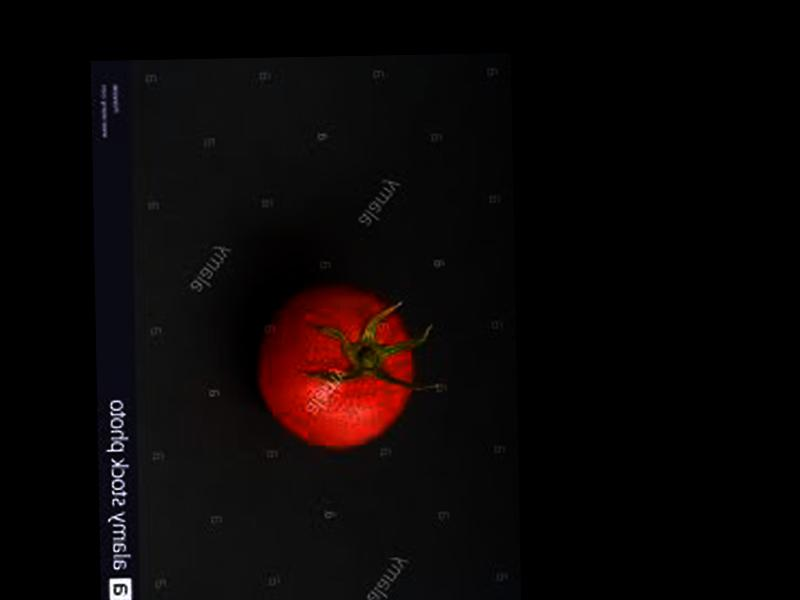Tomato: (260, 281, 417, 450)
